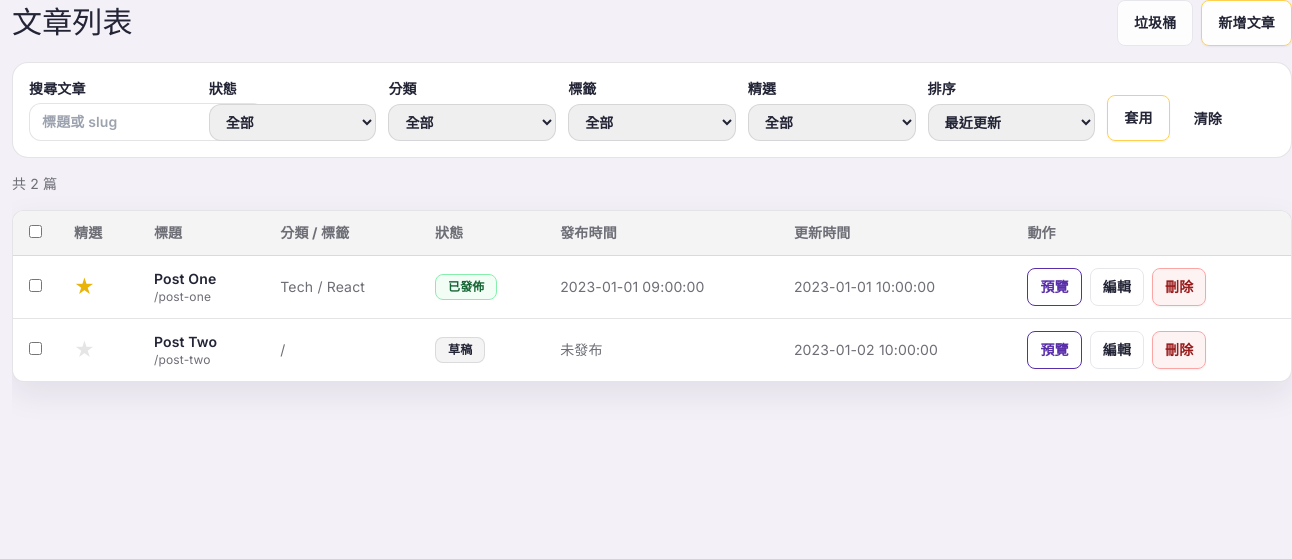
Scenario: PostListClient › shows batch action errors in an accessible alert
This screenshot has width=1292, height=559.
Click the checkbox named "選取文章「Post One」" at (36, 286), box [29, 279, 42, 292]
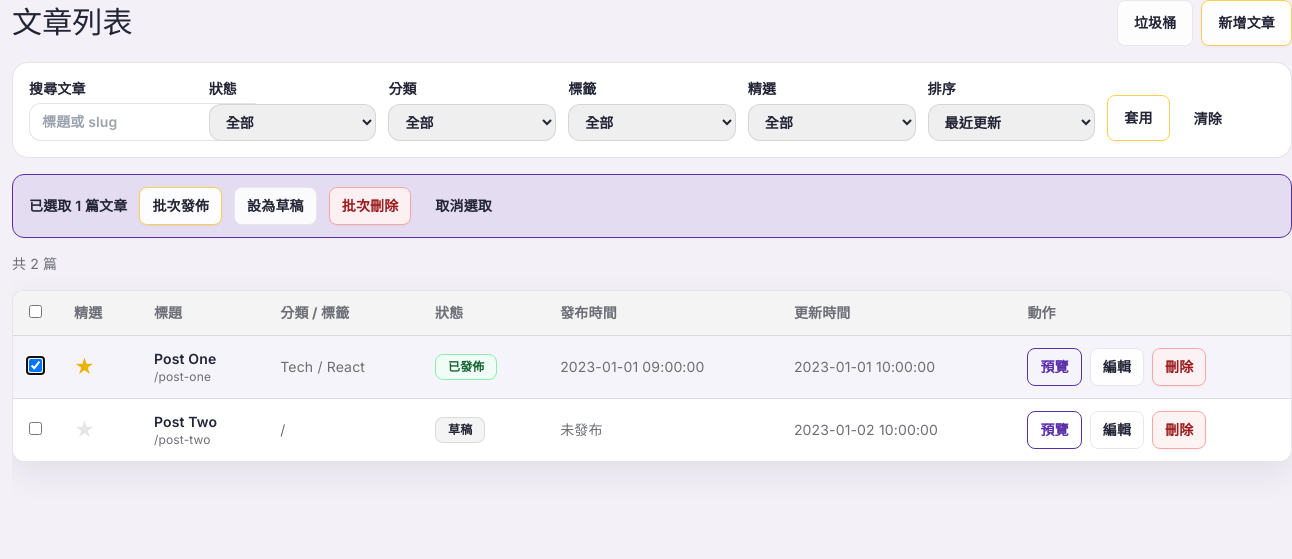
Click the button "批次發佈" at (181, 206), box [139, 187, 222, 225]
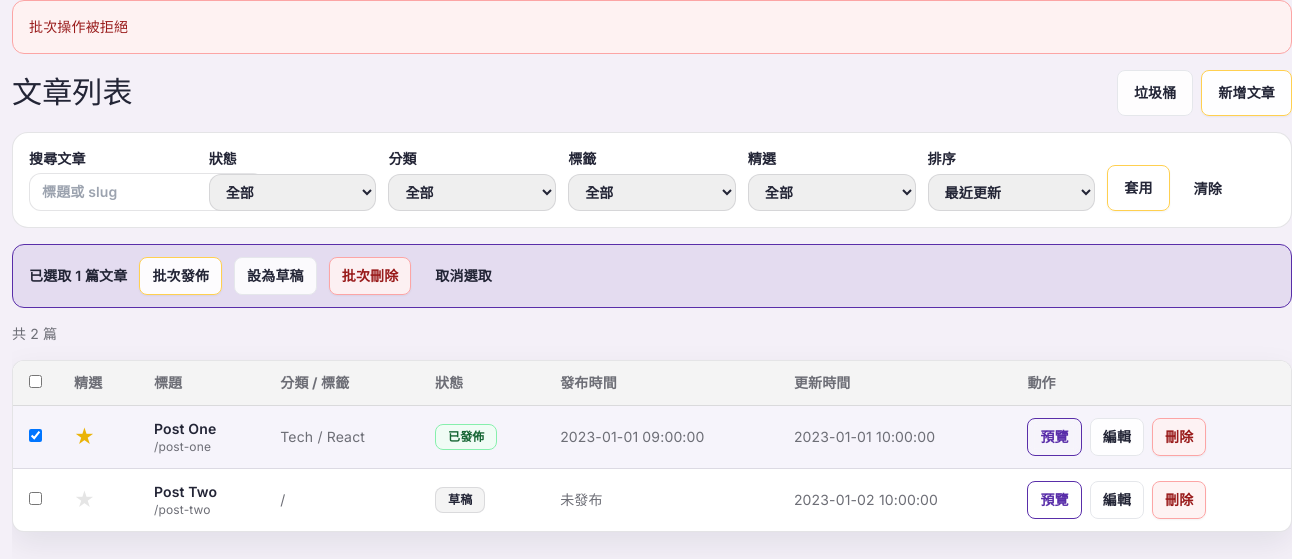
Expected: the message reads "批次操作被拒絕", [29, 18, 128, 35]
